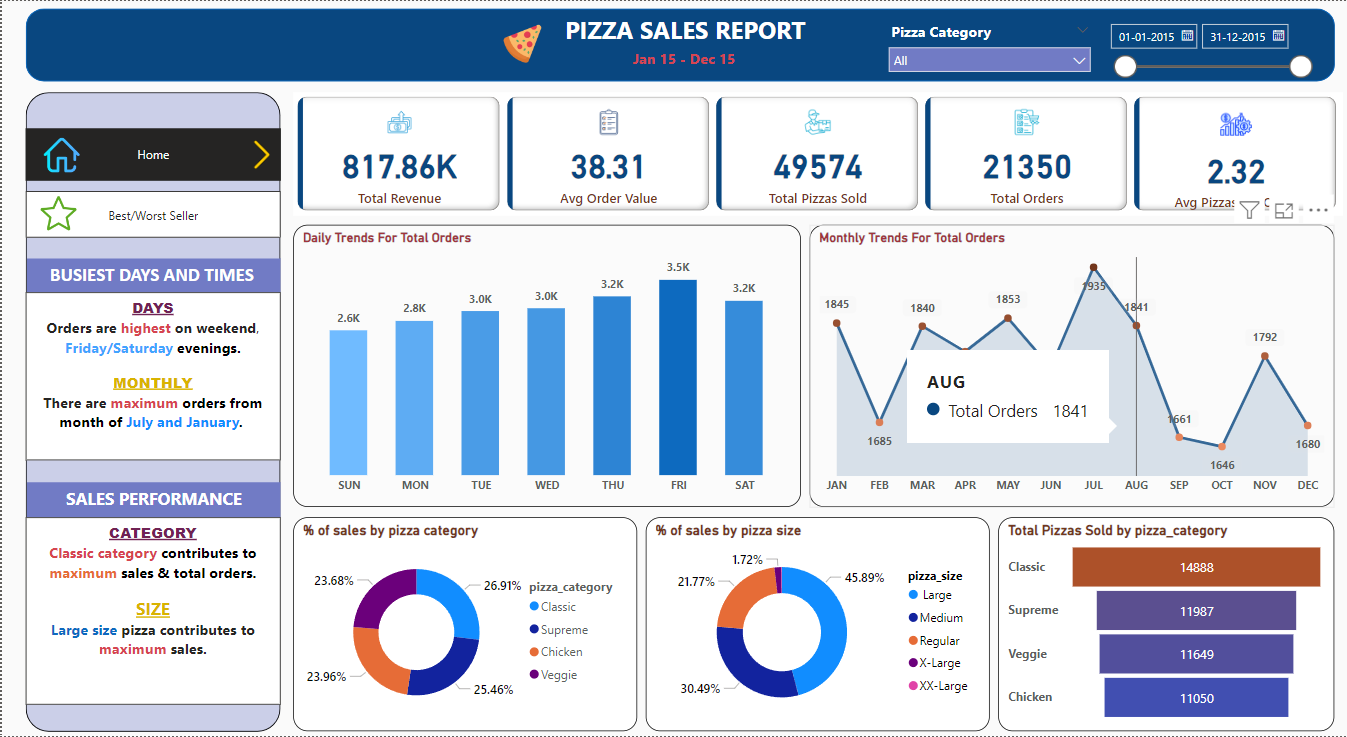

What the dashboard file says about the page in this screenshot:
{"tool":"powerbi","page":{"name":"Home ","canvas":[1500,820],"ordinal":0},"visuals":[{"type":"cardVisual","fields":{"Data":["pizza_sales.Total Revenue","pizza_sales.Avg Order Value","pizza_sales.Total Pizzas Sold","pizza_sales.Total Orders","pizza_sales.Avg Pizzas Per Order"]},"box":[324.5,101.7,1169.8,137.9],"z":0},{"type":"shape","box":[26.2,8.8,1458.8,81.2],"z":1000},{"type":"textbox","box":[588.8,8.8,351.2,50],"z":2000},{"type":"textbox","box":[697.5,47.5,192.5,53.8],"z":3000},{"type":"image","box":[530,21.2,98.8,53.8],"z":4000},{"type":"columnChart","title":"Daily Trends For Total Orders","fields":{"Y":["pizza_sales.Total Orders"],"Category":["pizza_sales.Order Day"]},"box":[324.5,249.3,565.4,314.7],"z":5000},{"type":"areaChart","title":"Monthly Trends For Total Orders","fields":{"Category":["pizza_sales.Order Month"],"Y":["pizza_sales.Total Orders"]},"box":[899.7,249.3,584.9,314.7],"z":6000},{"type":"donutChart","title":"% of sales by pizza category","fields":{"Category":["pizza_sales.pizza_category"],"Y":["pizza_sales.Total Revenue"]},"box":[324.5,575.2,383,238.1],"z":7000},{"type":"donutChart","title":"% of sales by pizza size","fields":{"Category":["pizza_sales.pizza_size"],"Y":["pizza_sales.Total Revenue"]},"box":[717.2,575.2,383,238.1],"z":8000},{"type":"funnel","fields":{"Y":["pizza_sales.Total Pizzas Sold"],"Category":["pizza_sales.pizza_category"]},"box":[1110,575.2,374.6,238.1],"z":9000},{"type":"shape","box":[26.2,101.2,283.8,712.5],"z":10000},{"type":"textbox","box":[27.9,286.9,282.7,37.6],"z":11000},{"type":"textbox","box":[26.2,325,283.8,187.5],"z":12000},{"type":"textbox","box":[27.9,536.2,282.7,39],"z":13000},{"type":"textbox","box":[26.2,575,283.8,208.8],"z":14000},{"type":"slicer","fields":{"Values":["pizza_sales.pizza_category"]},"box":[977.5,17.5,245,65],"z":15000},{"type":"slicer","fields":{"Values":["pizza_sales.order_date"]},"box":[1222.5,15,245,86.2],"z":16000},{"type":"pageNavigator","box":[26.5,142.1,284.1,58.5],"z":17000},{"type":"pageNavigator","box":[26.5,211.7,284.1,52.9],"z":18000},{"type":"image","box":[41.8,142.1,50.1,58.5],"z":19000},{"type":"image","box":[268.8,150.4,41.8,41.8],"z":20000},{"type":"image","box":[33.4,211.7,58.5,50.1],"z":21000}]}

Visuals, with their boxes in screenshot pixels (x1, y1, x2, y2), scaled from the page's 1500x820 canvas onto the 1347x737 screenshot:
cardVisual - pizza_sales.Total Revenue x pizza_sales.Avg Order Value: box(291, 91, 1342, 215)
shape: box(24, 8, 1334, 81)
textbox: box(529, 8, 844, 53)
textbox: box(626, 43, 799, 91)
image: box(476, 19, 565, 67)
"Daily Trends For Total Orders" columnChart: box(291, 224, 799, 507)
"Monthly Trends For Total Orders" areaChart: box(808, 224, 1333, 507)
"% of sales by pizza category" donutChart: box(291, 517, 635, 731)
"% of sales by pizza size" donutChart: box(644, 517, 988, 731)
funnel - pizza_sales.Total Pizzas Sold x pizza_sales.pizza_category: box(997, 517, 1333, 731)
shape: box(24, 91, 278, 731)
textbox: box(25, 258, 279, 292)
textbox: box(24, 292, 278, 461)
textbox: box(25, 482, 279, 517)
textbox: box(24, 517, 278, 704)
slicer - pizza_sales.pizza_category: box(878, 16, 1098, 74)
slicer - pizza_sales.order_date: box(1098, 13, 1318, 91)
pageNavigator: box(24, 128, 279, 180)
pageNavigator: box(24, 190, 279, 238)
image: box(38, 128, 83, 180)
image: box(241, 135, 279, 173)
image: box(30, 190, 83, 235)
